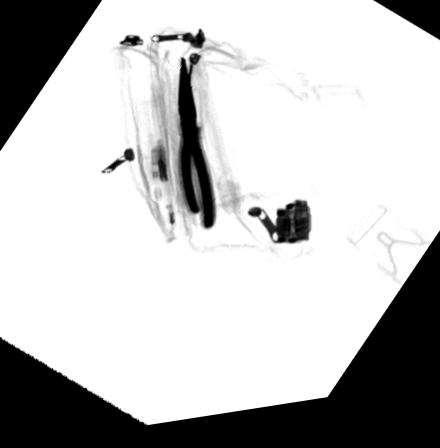Pliers: (176, 61, 216, 236)
